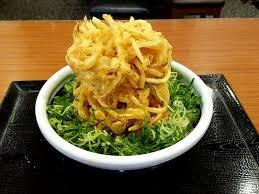kakiage: (73, 16, 169, 123)
